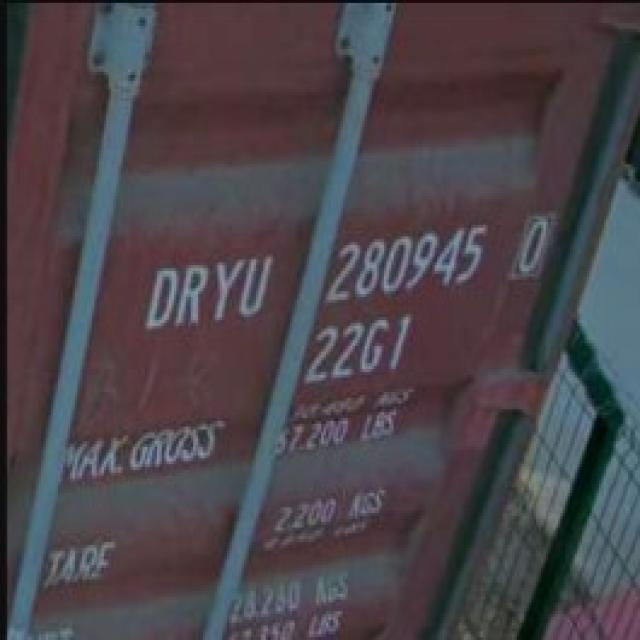dv: (508, 206, 552, 285)
owner: (138, 245, 274, 334)
serial: (326, 223, 489, 308)
size: (301, 315, 416, 388)
